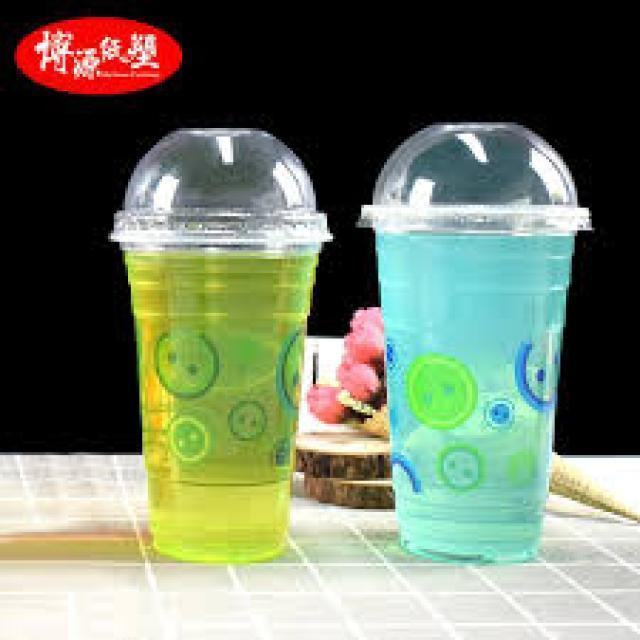cup: (350, 186, 605, 564), (97, 200, 341, 577)
